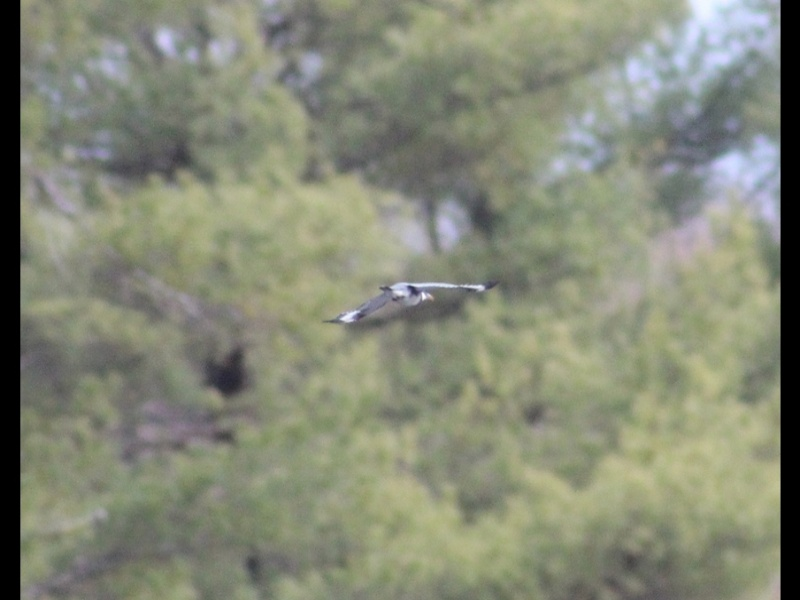kingfisher: (324, 273, 501, 327)
